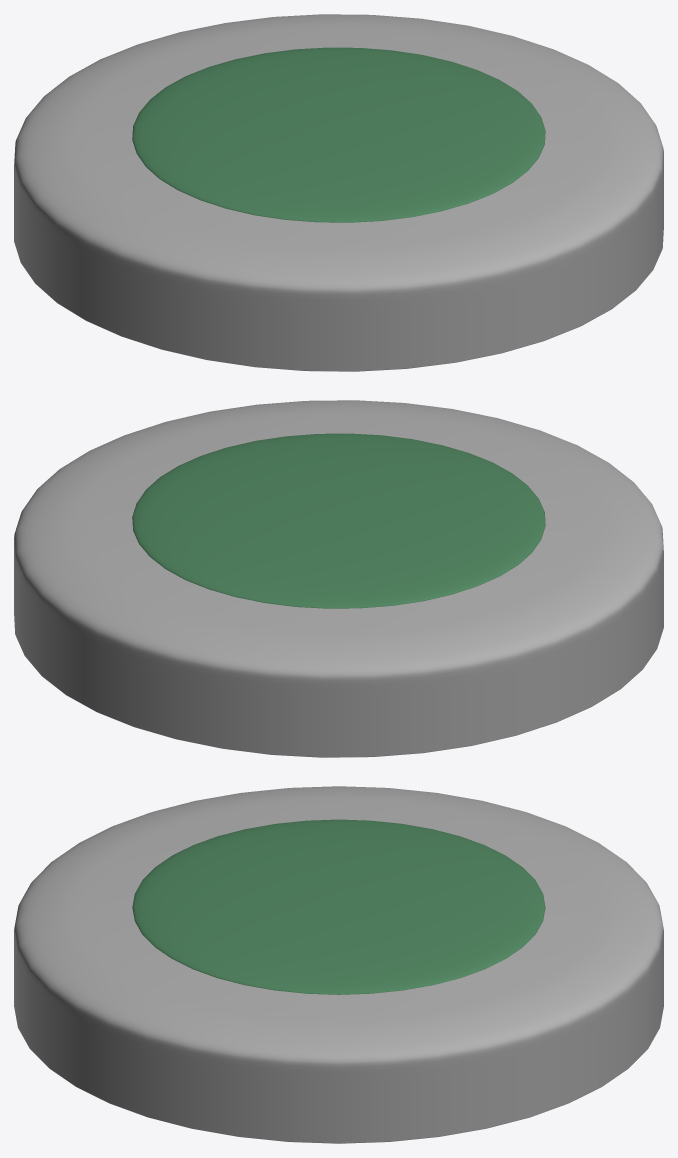
File: green_button.fbx
3 views of the same model, one above another, from view 1: azimuth 30°, elevation 25°; view 2: azimuth 150°, elevation 25°; view 3: azimuth 270°, elevation 25° (orthographic).
Parts seen in each view (by area): view 1: button_border, green_button; view 2: button_border, green_button; view 3: button_border, green_button.
Part boxes in pixels (x1,y1,x2,y2): button_border: [14, 14, 663, 371]; green_button: [132, 47, 545, 222]; button_border: [14, 400, 663, 757]; green_button: [132, 433, 545, 608]; button_border: [14, 786, 663, 1143]; green_button: [132, 819, 545, 994].
Size of the model in its own units: 87.3 by 16.42 by 87.25.
